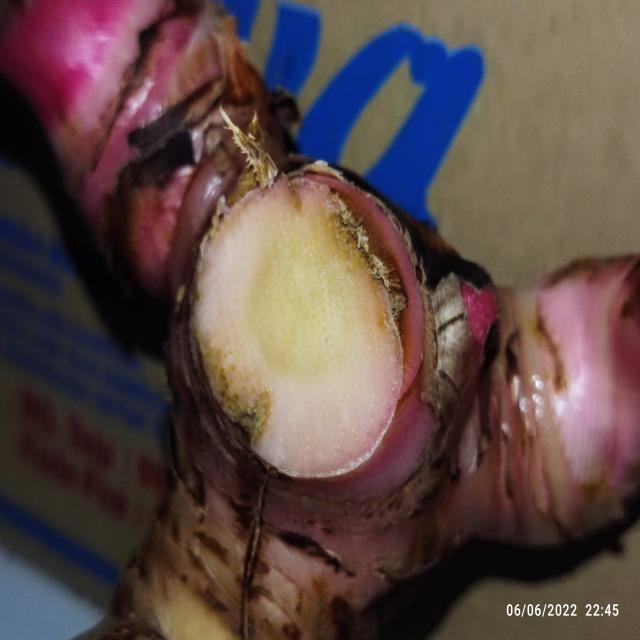ginger: (100, 46, 630, 612)
